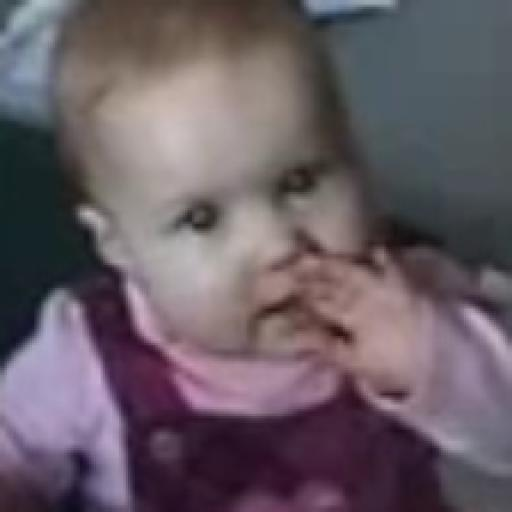Autism: (7, 48, 482, 512)
